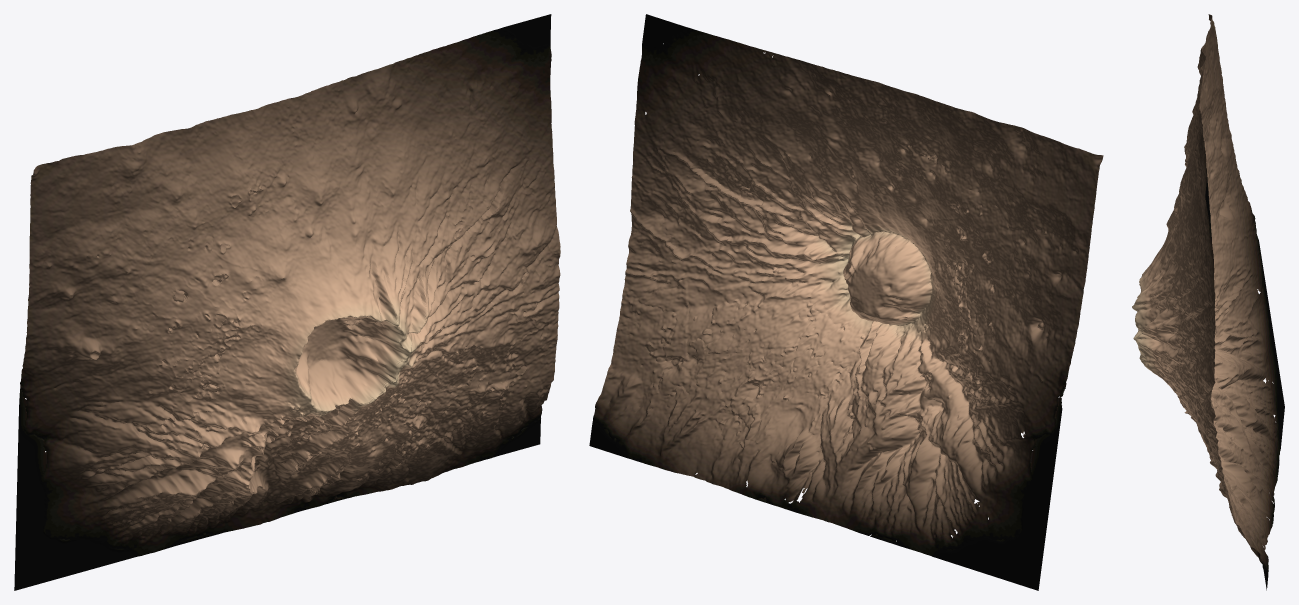
File: mount_tambora_indonesia.glb
3 renders of one model, left to right at view 1: azimuth 30°, elevation 25°; view 2: azimuth 150°, elevation 25°; view 3: azimuth 270°, elevation 25°, orthographic. The views are drawn at different scales.
Parts seen in each view (by area): view 1: Object_3, Object_2, Object_4, Object_6, Object_5, Object_7, Object_8; view 2: Object_3, Object_4, Object_2, Object_5, Object_6, Object_7, Object_8; view 3: Object_2, Object_3, Object_5, Object_4, Object_6, Object_7, Object_8.
Part boxes in pixels (<box>): Object_3: <box>19,14,556,436</box>; Object_2: <box>14,169,540,590</box>; Object_4: <box>36,53,540,540</box>; Object_6: <box>282,34,560,506</box>; Object_5: <box>305,57,555,503</box>; Object_7: <box>141,93,364,550</box>; Object_8: <box>102,133,232,553</box>; Object_3: <box>630,14,1102,435</box>; Object_4: <box>591,49,1086,540</box>; Object_2: <box>589,155,1103,590</box>; Object_5: <box>597,55,912,504</box>; Object_6: <box>593,34,889,506</box>; Object_7: <box>803,80,972,549</box>; Object_8: <box>892,118,1028,553</box>; Object_2: <box>1203,14,1284,590</box>; Object_3: <box>1135,14,1262,399</box>; Object_5: <box>1132,150,1273,585</box>; Object_4: <box>1137,20,1277,585</box>; Object_6: <box>1138,128,1272,580</box>; Object_7: <box>1139,109,1278,491</box>; Object_8: <box>1192,51,1278,464</box>.
Bounding box in the file's own units: 628 × 546 × 185.
